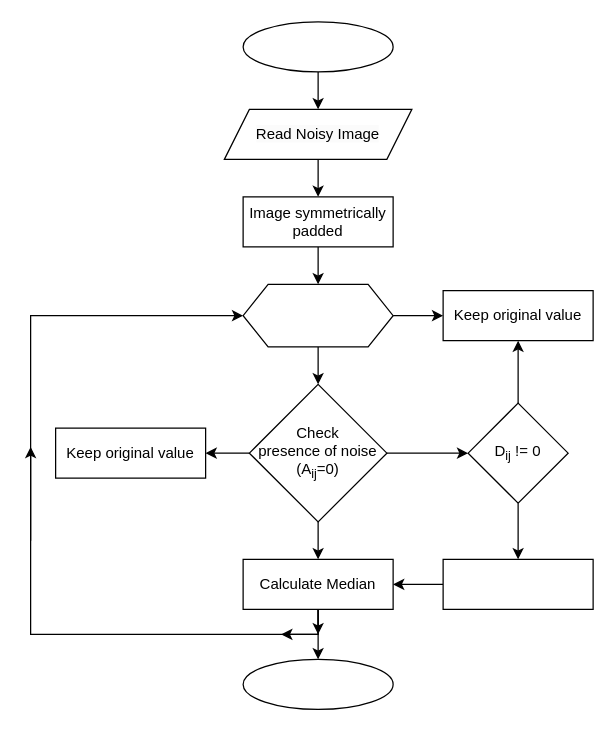
The diagram is 615 pixels wide and 731 high, and some of its shapes have lost their labels. Each missing label, with the centre of its shape:
"END" belongs at (x=317, y=683).
"Find R ij" belongs at (x=517, y=583).
"For all i and j" belongs at (x=317, y=315).
"START" belongs at (x=317, y=46).
